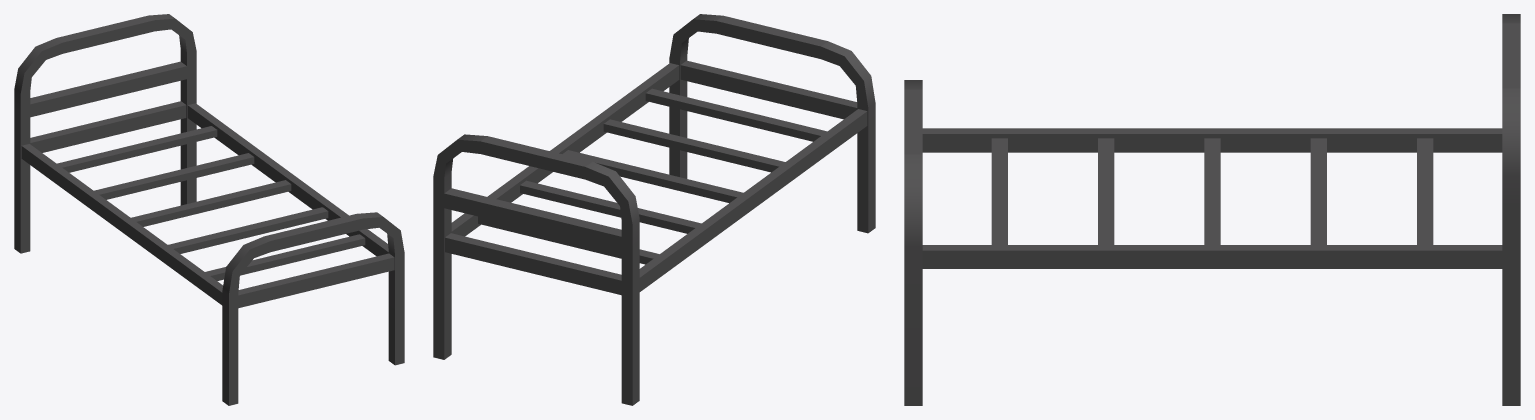
File: SM_Prop_Bed_Military_Frame_01.glb
3 renders of one model, left to right at view 1: azimuth 30°, elevation 25°; view 2: azimuth 150°, elevation 25°; view 3: azimuth 270°, elevation 25°, orthographic. The views are drawn at different scales.
Parts seen in each view (by area): view 1: SM_Prop_Bed_Military_Frame_01; view 2: SM_Prop_Bed_Military_Frame_01; view 3: SM_Prop_Bed_Military_Frame_01.
Part boxes in pixels (left/top/right/bottom): SM_Prop_Bed_Military_Frame_01: left=14, top=14, right=404, bottom=405; SM_Prop_Bed_Military_Frame_01: left=433, top=14, right=875, bottom=405; SM_Prop_Bed_Military_Frame_01: left=904, top=14, right=1520, bottom=405.
Size of the model in its own units: 1.06 by 1.16 by 2.24.
Materials: 1 (1 with a texture image).
